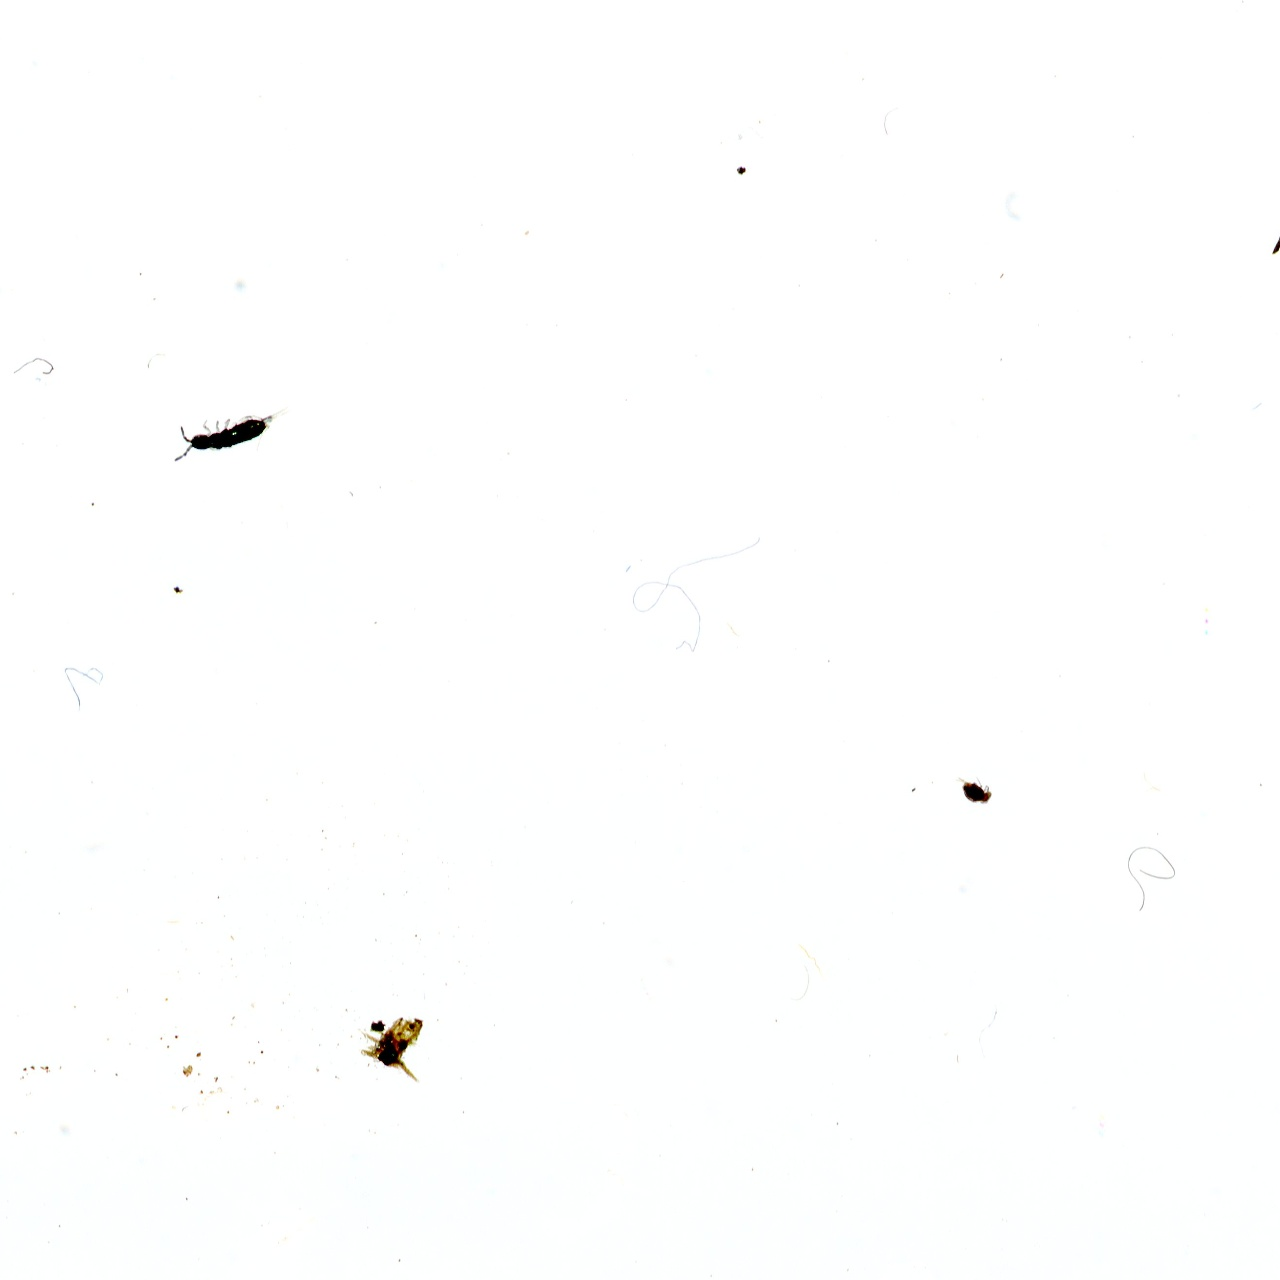arthropod: (160, 388, 310, 474), (953, 775, 995, 806)
